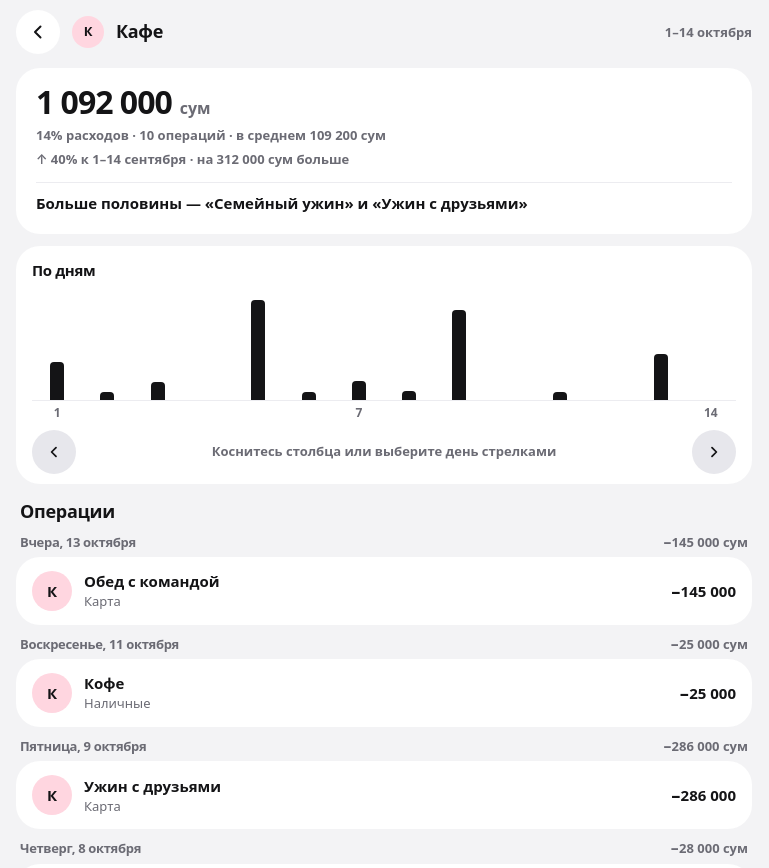
Scenario: a category of the month (board «Аналитика · категория «Кафе»») › a touch on a bar chooses its day: the readout, the chip and only that day’s operations
Click the button named "Траты по дням, 1–14 октября. Больше всего — 5 октября: 318 0" at (57, 381), box [32,289,736,401]
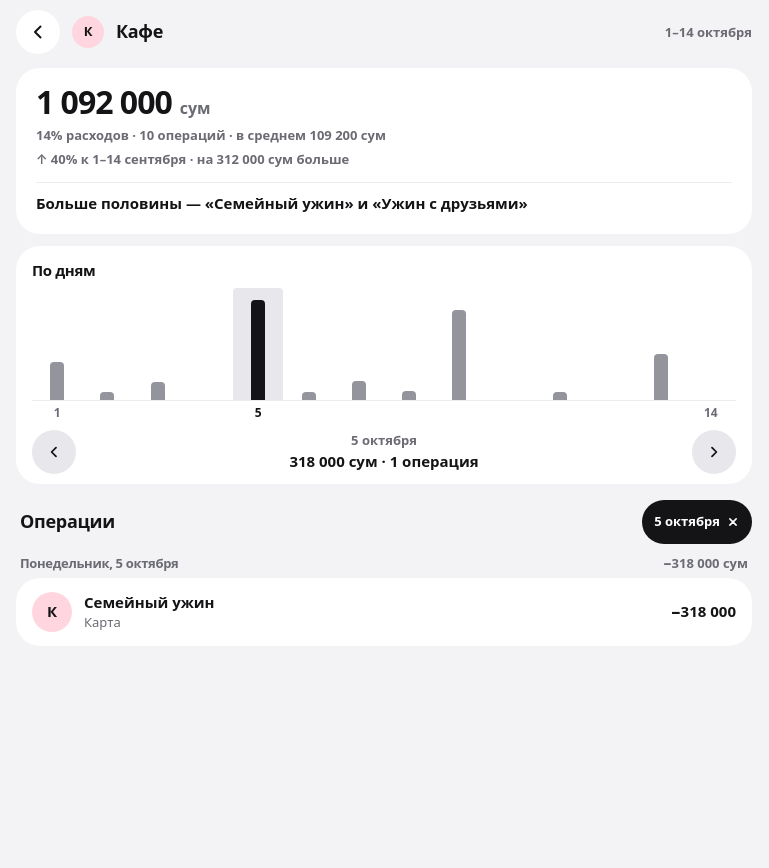
Expected: the text "318 000 сум · 1 операция" is shown, [289,450,479,472]
Expected: the button "5 октября" is shown
Expected: the text "Обед с командой" is gone
Click the button "5 октября" at (697, 522), box [642,500,752,544]
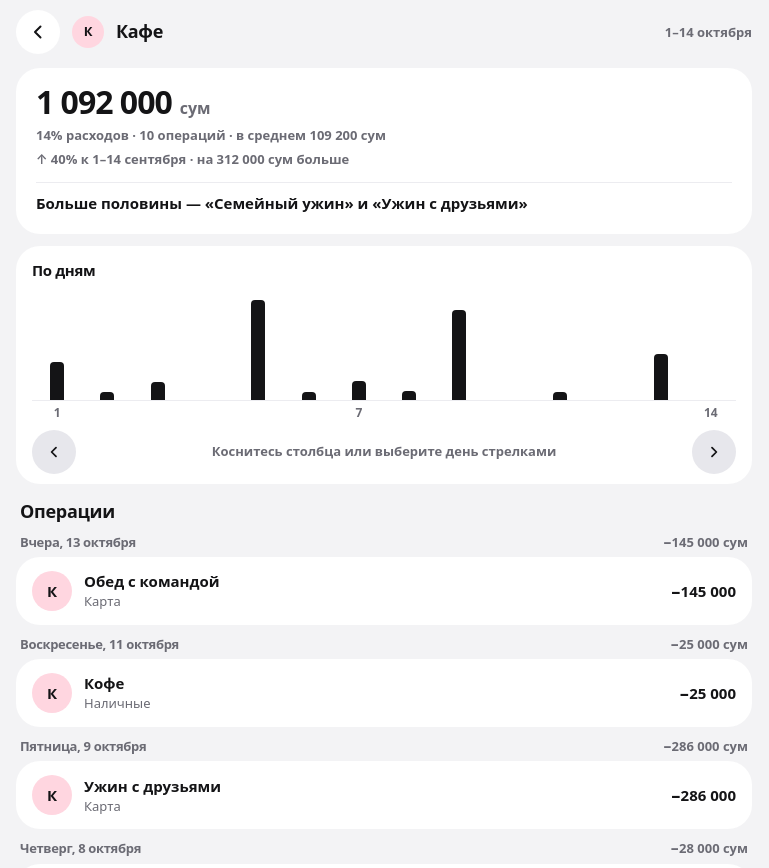
Expected: the text "Коснитесь столбца или выберите день стрелками" is shown, [212,442,556,461]
